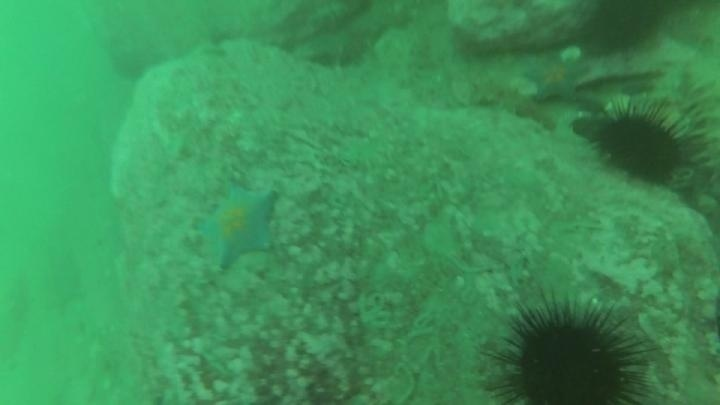echinus: (482, 291, 656, 404), (591, 101, 690, 187), (579, 2, 668, 58)
holothurian: (671, 63, 720, 184), (469, 75, 559, 132)
starfish: (194, 181, 280, 273), (521, 55, 588, 104)
